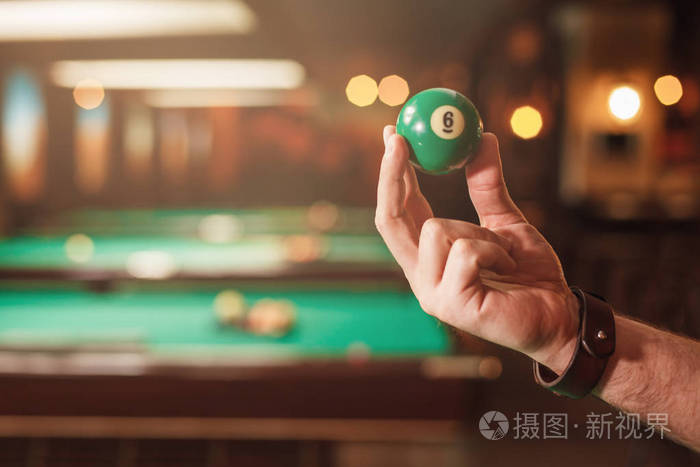no-phone: (371, 84, 574, 357)
